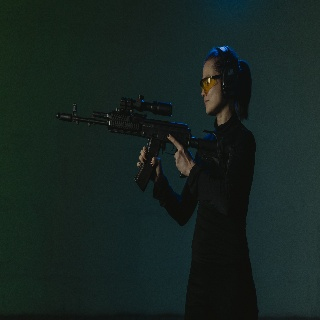rifle: (56, 92, 225, 192)
